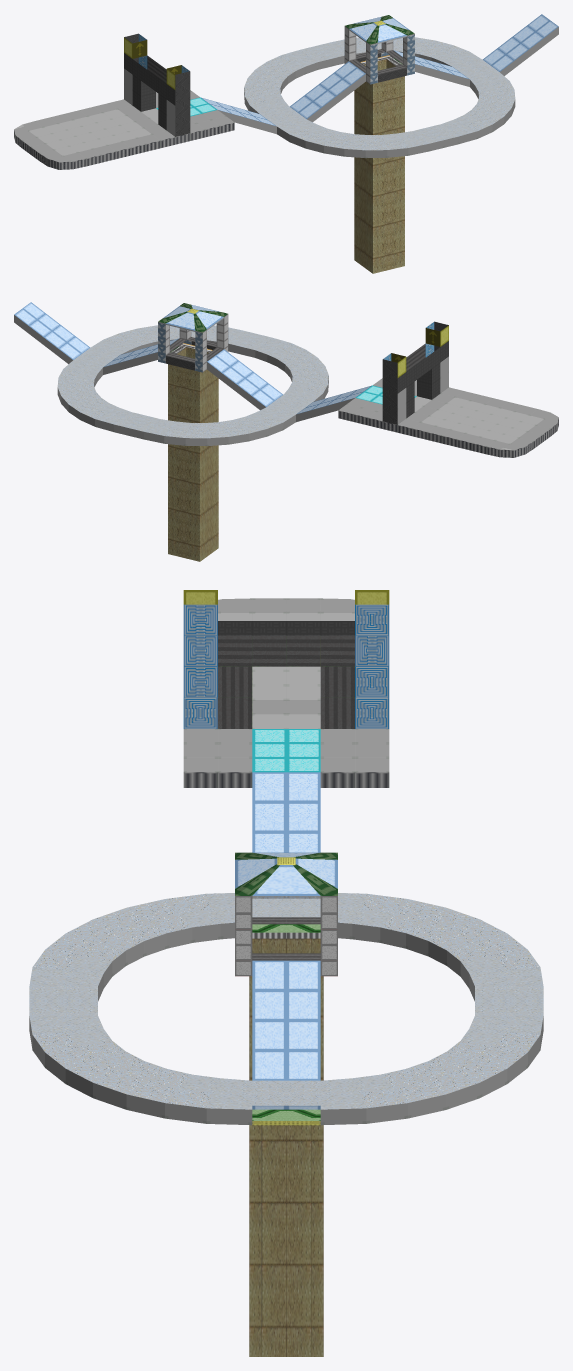
File: geometry-14-room4part2.FBX
3 views of the same model, one above another, from view 1: azimuth 30°, elevation 25°; view 2: azimuth 150°, elevation 25°; view 3: azimuth 270°, elevation 25° (orthographic). The views are drawn at different scales.
Parts seen in each view (by area): view 1: room4-part2; view 2: room4-part2; view 3: room4-part2.
Part boxes in pixels (x1,y1,x2,y2): room4-part2: (14,14,558,273); room4-part2: (14,302,558,561); room4-part2: (29,590,543,1356).
Size of the model in its own units: 700 by 339 by 300.
Materials: 1 (1 with a texture image).
